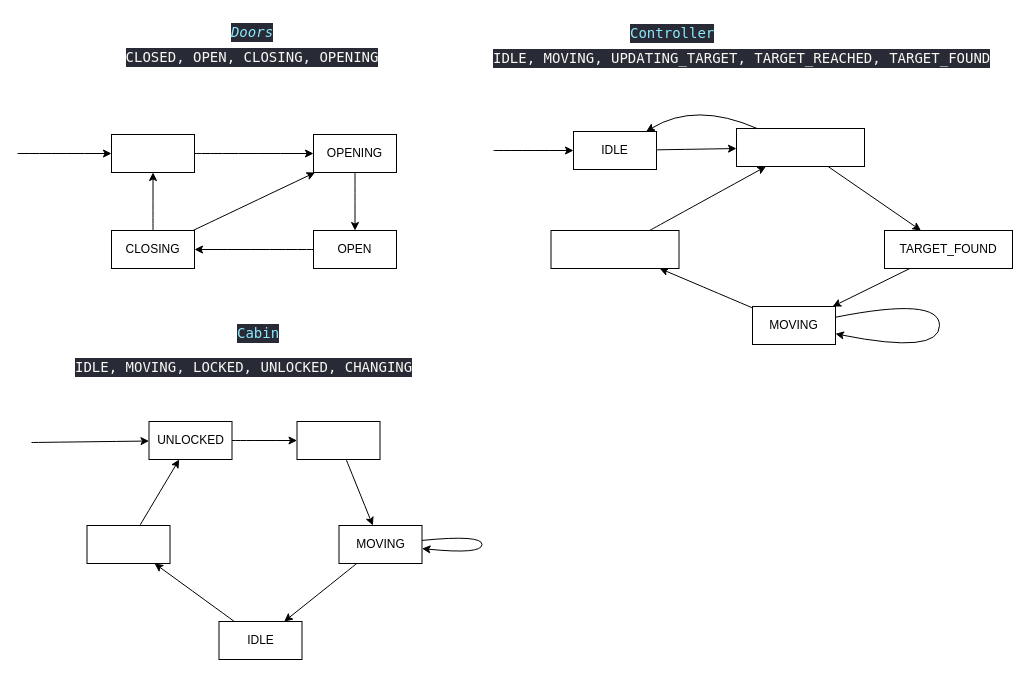
Some shapes in this 1030 by 677 pixel diagram are drawn without their labels. The centre of each missing label's shape, as x and y in pixels:
"CHANGING" goes at (x=338, y=440).
"CLOSED" goes at (x=152, y=153).
"LOCKED" goes at (x=128, y=544).
"TARGET_REACHED" goes at (x=614, y=249).
"UPDATING_TARGET" goes at (x=800, y=147).
